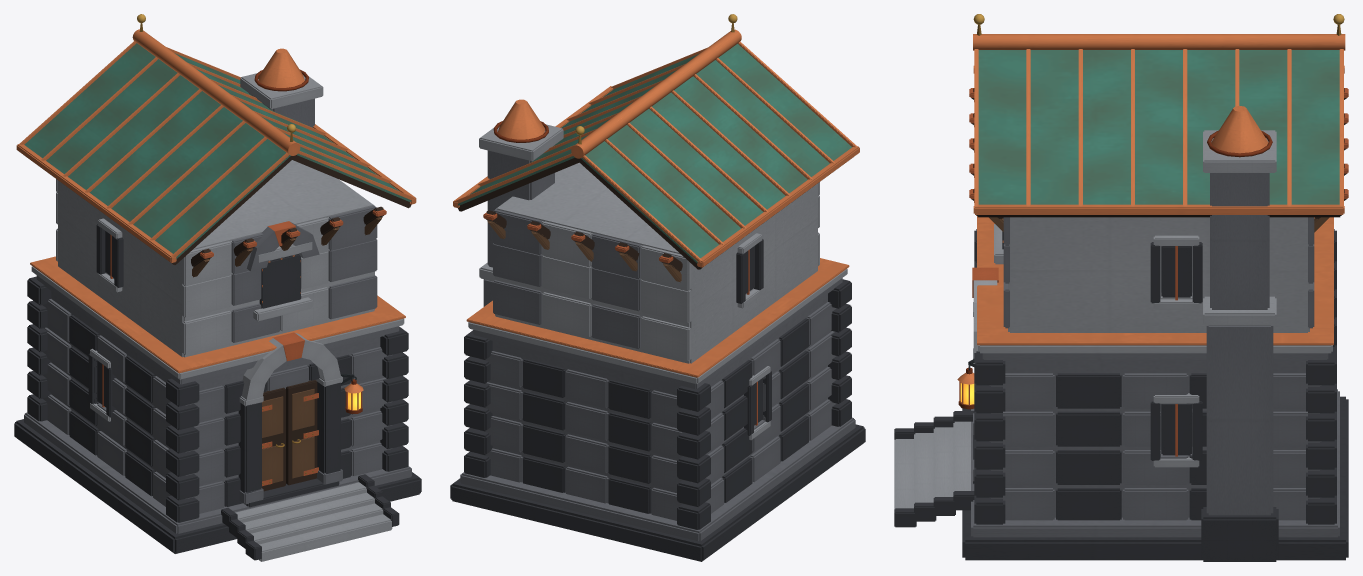
Rendered from house_copper_bastion.glb.
3 renders of one model, left to right at view 1: azimuth 30°, elevation 25°; view 2: azimuth 150°, elevation 25°; view 3: azimuth 270°, elevation 25°, orthographic. The views are drawn at different scales.
Parts seen in each view (by area): view 1: house_copper_bastion; view 2: house_copper_bastion; view 3: house_copper_bastion.
Part boxes in pixels (x1,y1,x2,y2): house_copper_bastion: [14, 14, 421, 561]; house_copper_bastion: [450, 14, 865, 561]; house_copper_bastion: [894, 14, 1348, 561].
Bounding box in the file's own units: 4.95 × 7.46 × 6.47.
1 material, 1 textured.
